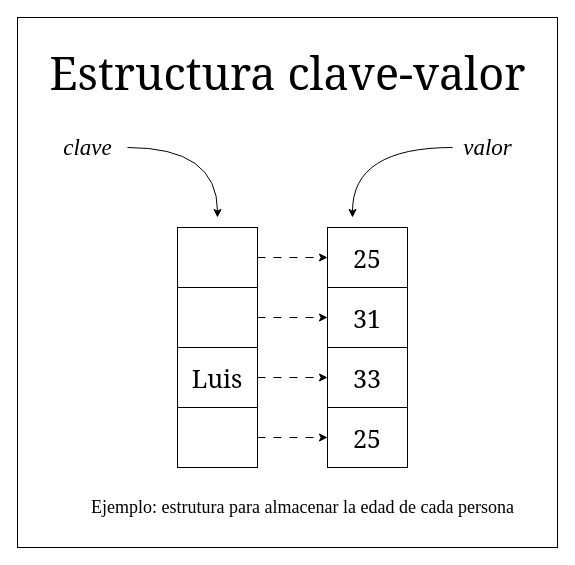
Some shapes in this 575 by 565 pixel diagram are drawn without their labels. Here are the shapes that lost their labels. From the top down, the centre of each, then its label:
the point at 217,257: Ana
the point at 217,317: Pedro
the point at 217,437: David
